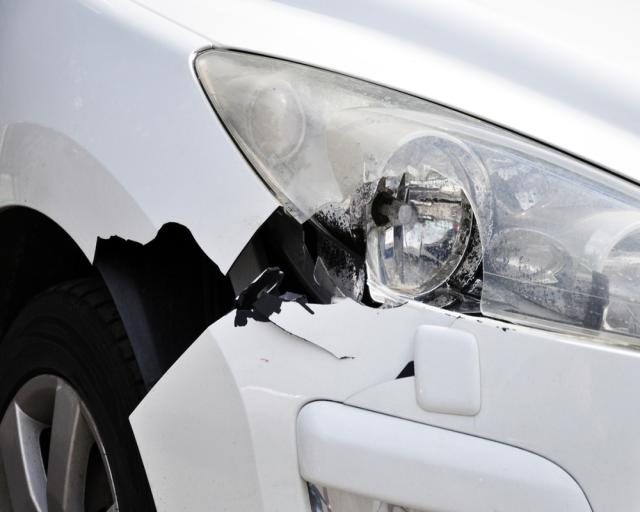crack: (251, 307, 356, 361)
lamp broken: (195, 47, 640, 350)
